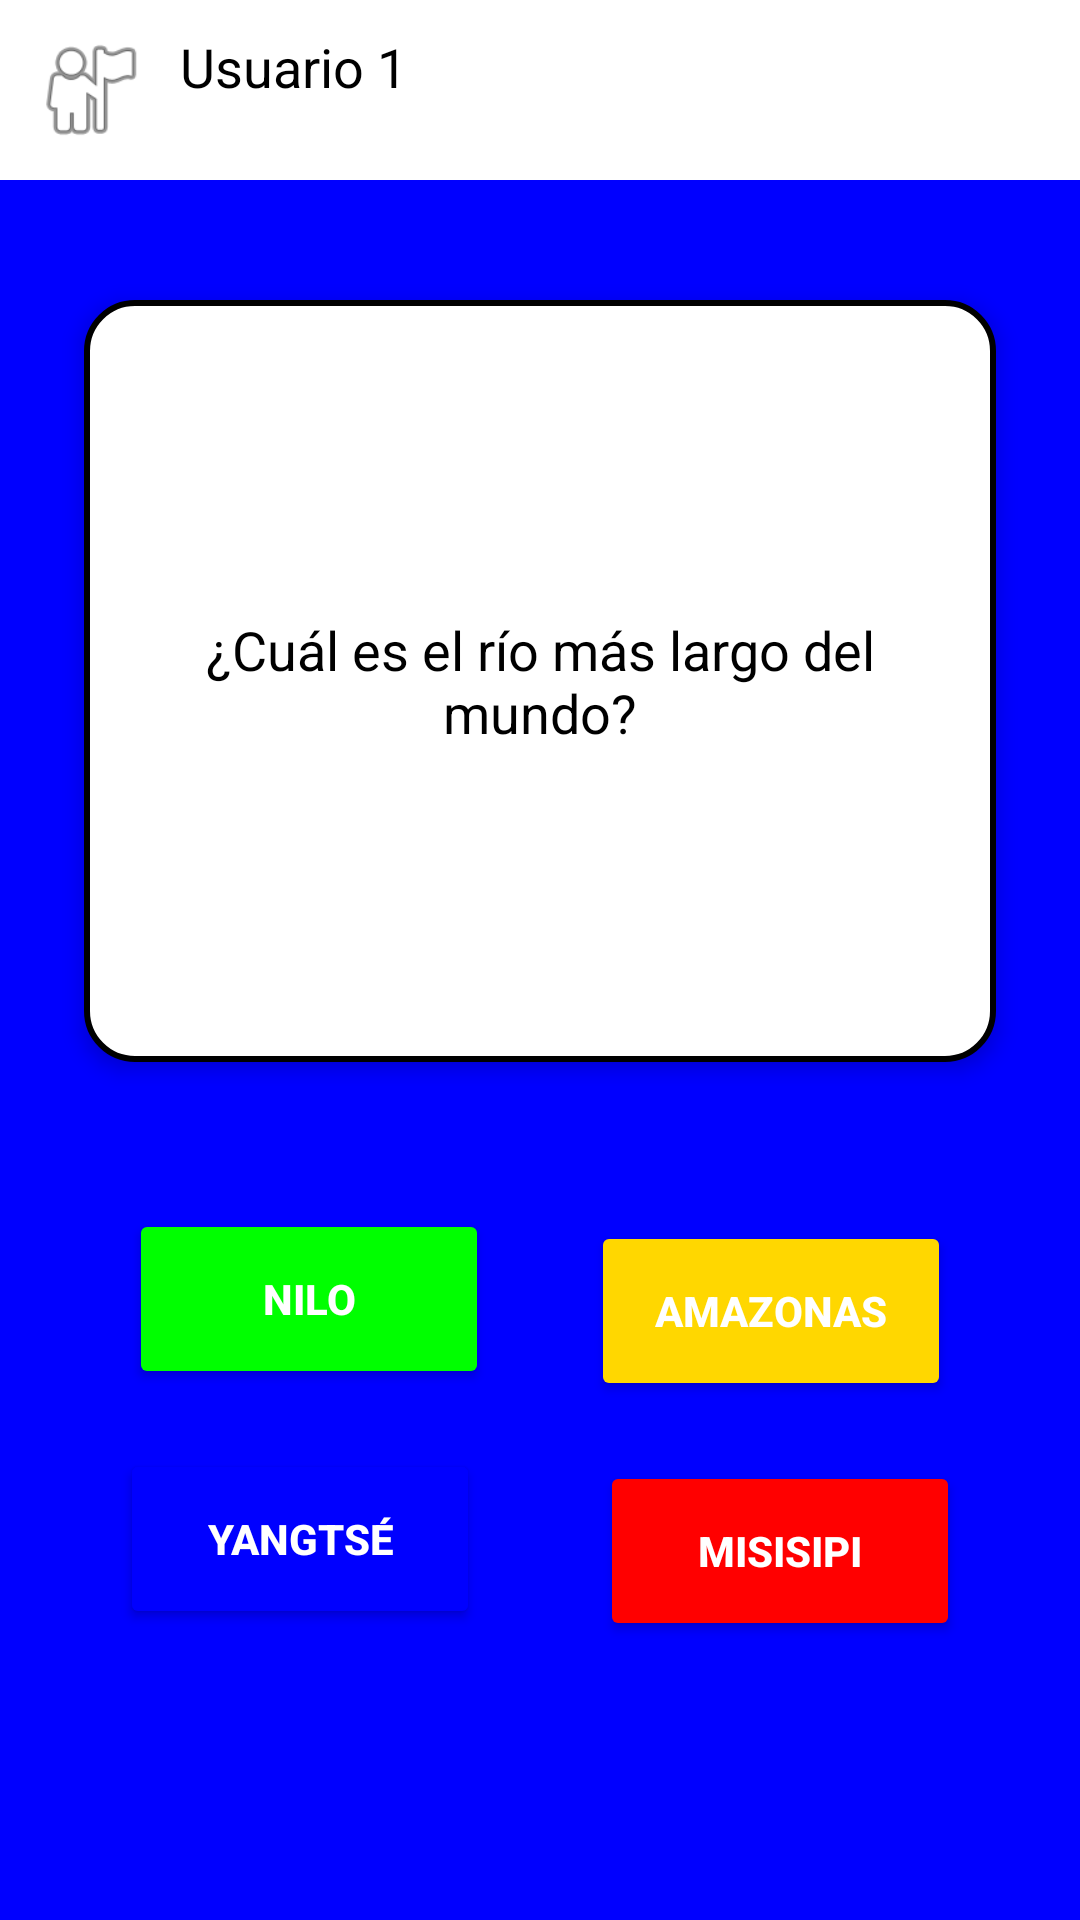

Icon click points for this 1080px x 1920px phone screenshot, format point (x, y):
Ícono de usuario: point (91, 90)
